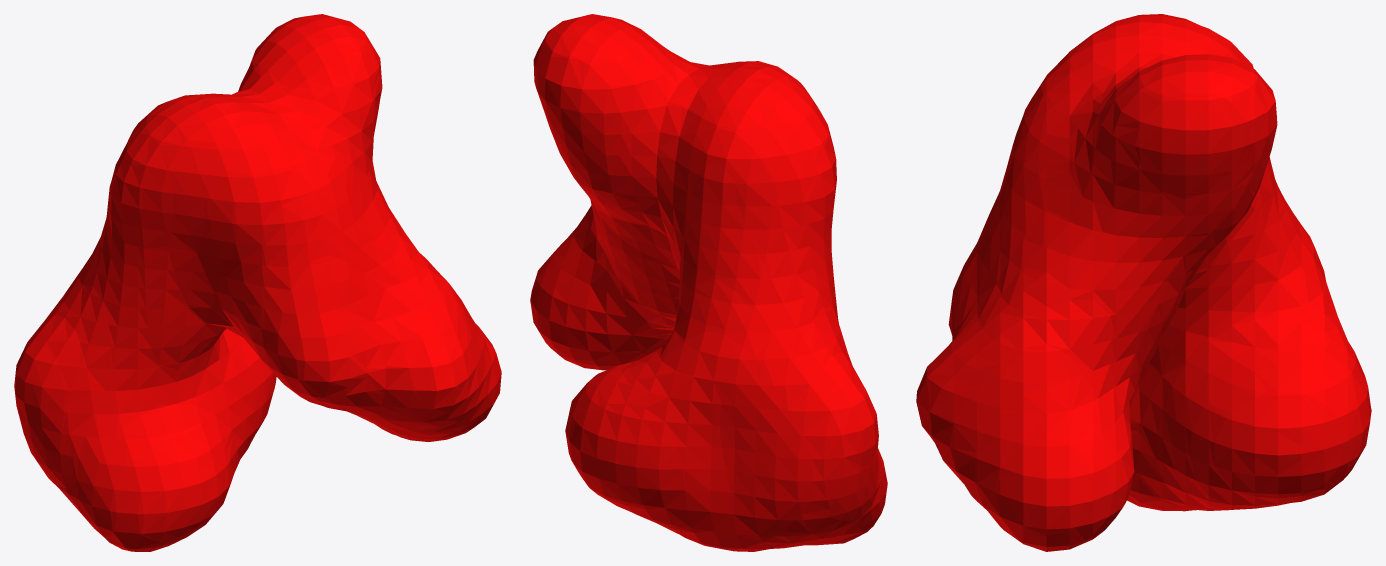
Rendered from hupB_coarse.dae.
3 renders of one model, left to right at view 1: azimuth 30°, elevation 25°; view 2: azimuth 150°, elevation 25°; view 3: azimuth 270°, elevation 25°, orthographic. The views are drawn at different scales.
Visible parts, largest first — view 1: hupB; view 2: hupB; view 3: hupB.
Part boxes in pixels (bbox=[...]): hupB: bbox=[14, 14, 501, 551]; hupB: bbox=[530, 14, 887, 551]; hupB: bbox=[916, 14, 1371, 551].
Size of the model in its own units: 38.26 by 42.24 by 32.21.
